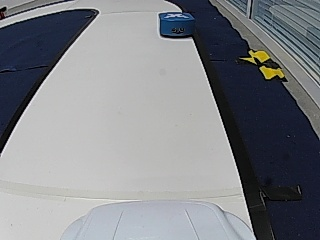prop: (159, 12, 195, 38)
